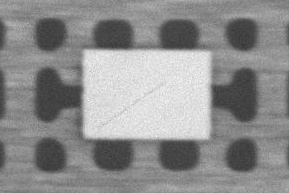DIE_CRACK: (147, 55, 247, 85)
